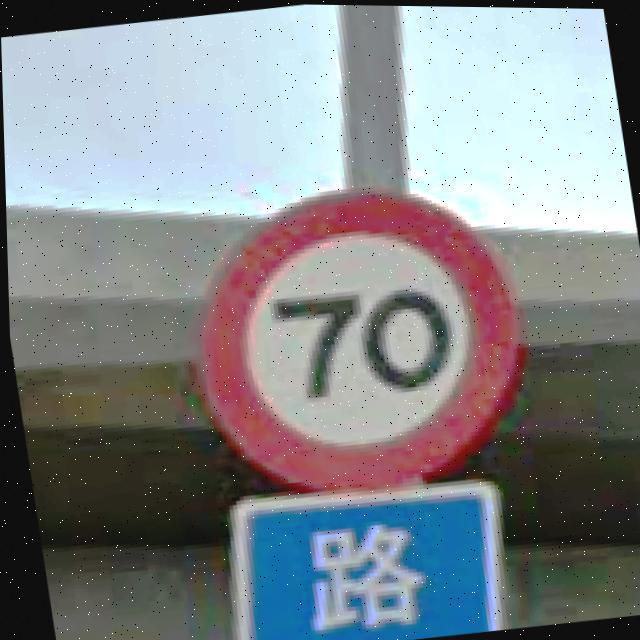max70: (165, 163, 545, 506)
